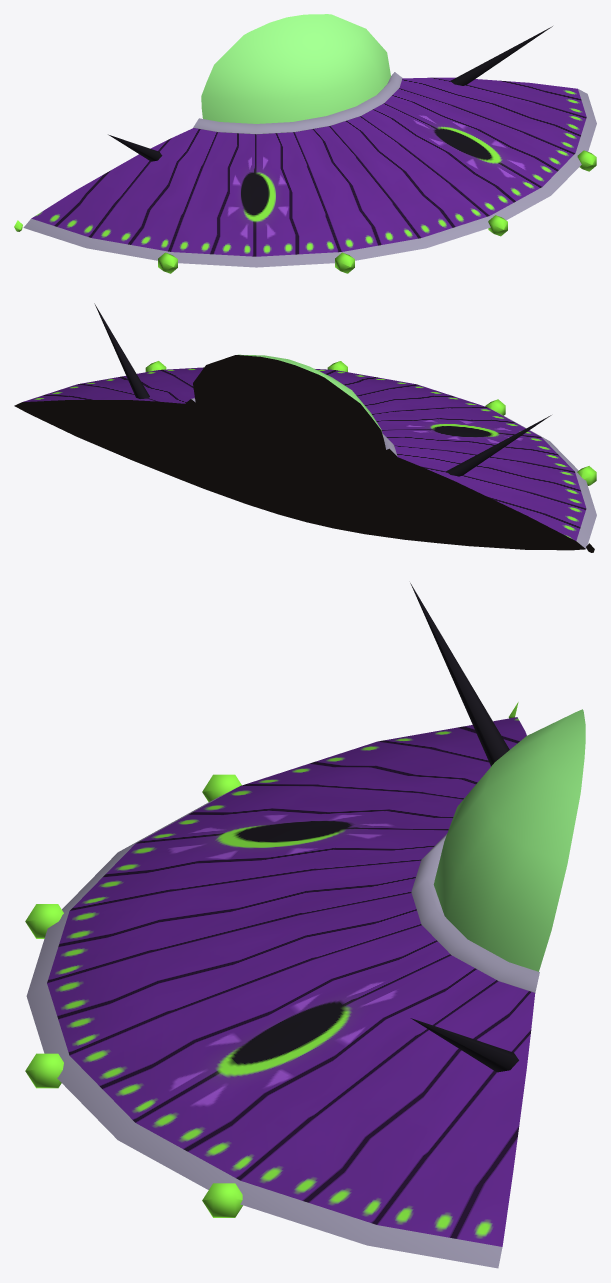
The model's file is raider_saucer_debris4.obj.
3 renders of one model, top to bottom at view 1: azimuth 30°, elevation 25°; view 2: azimuth 150°, elevation 25°; view 3: azimuth 270°, elevation 25°, orthographic. The views are drawn at different scales.
Parts seen in each view (by area): view 1: disc, dome, dome_ring, rim_light, spike; view 2: disc, dome, spike, rim_light; view 3: disc, dome, dome_ring, spike, rim_light.
Boxes of the visible parts, <box> form: disc: <box>23,77,596,267</box>; dome: <box>201,14,390,123</box>; dome_ring: <box>193,72,402,134</box>; rim_light: <box>14,150,596,273</box>; spike: <box>108,26,552,161</box>; disc: <box>14,367,596,550</box>; dome: <box>193,354,385,451</box>; spike: <box>94,303,551,476</box>; rim_light: <box>145,361,596,552</box>; disc: <box>26,717,535,1268</box>; dome: <box>433,709,585,971</box>; dome_ring: <box>411,833,539,992</box>; spike: <box>410,583,518,1072</box>; rim_light: <box>25,702,518,1217</box>.
Size of the model in its own units: 15.45 by 4.61 by 6.59.
Materials: 6 (1 with a texture image).
